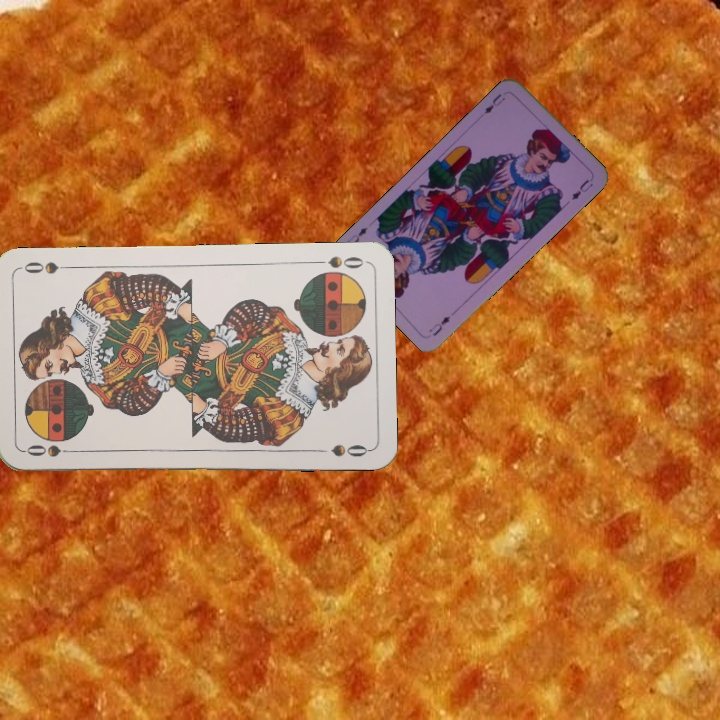EU: (425, 311, 453, 339), (480, 90, 508, 117)
SO: (22, 440, 81, 460), (309, 252, 366, 271)
